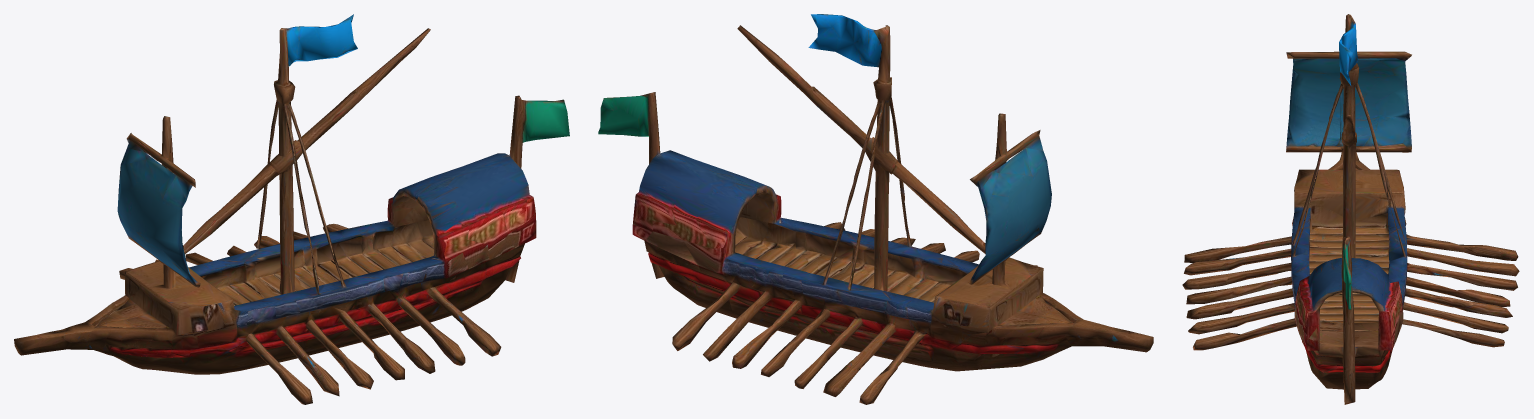
The model's file is m_galley_animated.glb.
3 views of the same model, side by side, from view 1: azimuth 30°, elevation 25°; view 2: azimuth 150°, elevation 25°; view 3: azimuth 270°, elevation 25° (orthographic). The views are drawn at different scales.
Parts seen in each view (by area): view 1: m_galley_Living_Scenery; view 2: m_galley_Living_Scenery; view 3: m_galley_Living_Scenery.
Part boxes in pixels (left/top/right/bottom): m_galley_Living_Scenery: left=14, top=14, right=569, bottom=404; m_galley_Living_Scenery: left=598, top=14, right=1153, bottom=404; m_galley_Living_Scenery: left=1182, top=14, right=1519, bottom=404.
Bounding box in the file's own units: 0.9995 × 0.5421 × 0.5683.
Materials: 1 (1 with a texture image).
